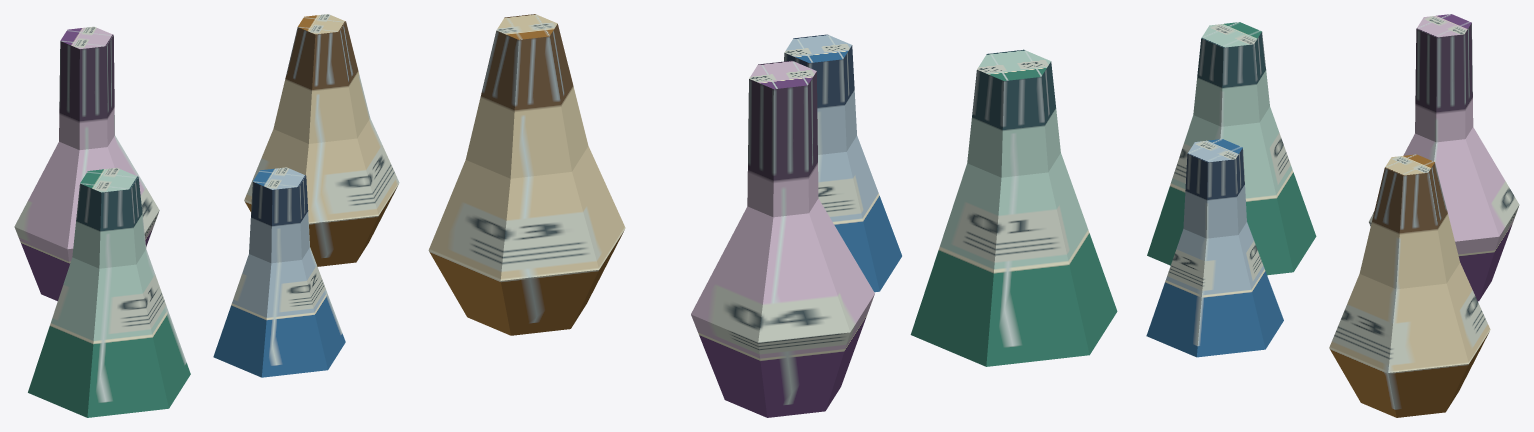
File: Laboratory_Flasks_Set.glb
The picture shows the model from 3 angles, left to right: view 1: azimuth 30°, elevation 25°; view 2: azimuth 150°, elevation 25°; view 3: azimuth 270°, elevation 25°; orthographic projection. The views are drawn at different scales.
Visible parts, largest first — view 1: Laboratory_Flasks_Set; view 2: Laboratory_Flasks_Set; view 3: Laboratory_Flasks_Set.
Boxes of the visible parts, left/top/right/bottom form: Laboratory_Flasks_Set: left=14, top=14, right=399, bottom=417; Laboratory_Flasks_Set: left=428, top=14, right=1117, bottom=417; Laboratory_Flasks_Set: left=1146, top=14, right=1519, bottom=417.
Size of the model in its own units: 0.3817 by 0.21 by 0.2723.
1 material, 1 textured.
